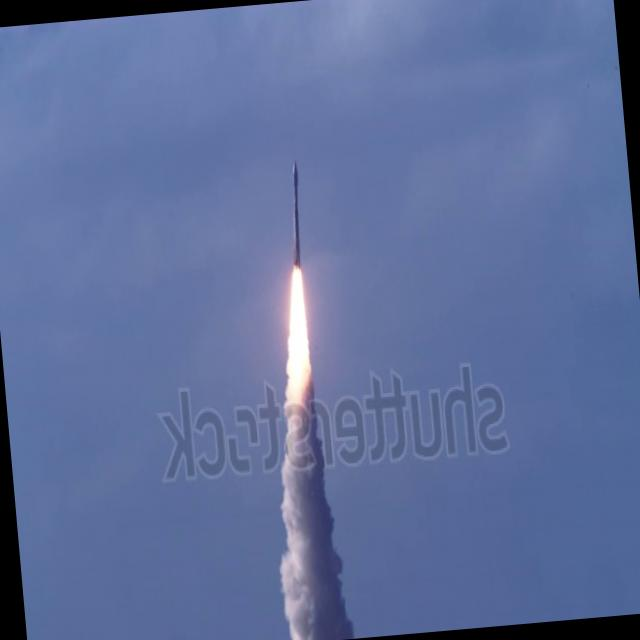rocket: (268, 147, 324, 440)
